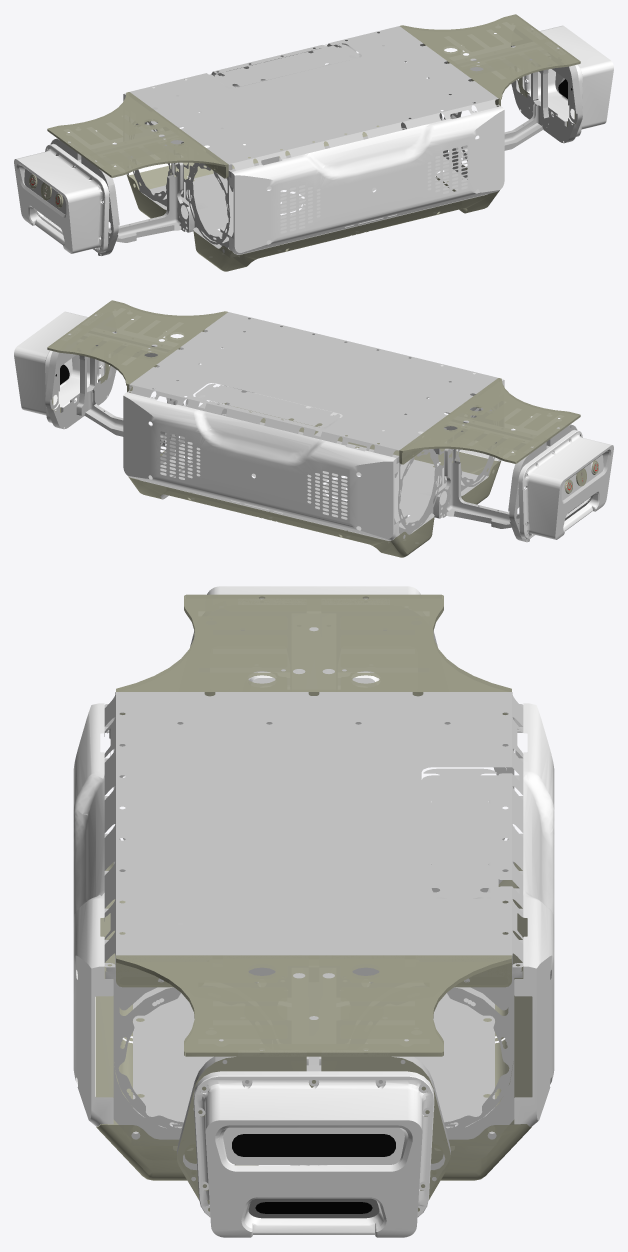
File: Torso.dae
3 views of the same model, one above another, from view 1: azimuth 30°, elevation 25°; view 2: azimuth 150°, elevation 25°; view 3: azimuth 270°, elevation 25° (orthographic). The views are drawn at different scales.
Parts seen in each view (by area): view 1: solid_Torso (×14); view 2: solid_Torso (×14); view 3: solid_Torso (×16).
Boxes of the visible parts, box(x1,y1,x2,y2) form: solid_Torso (×14): box(14, 14, 613, 271); solid_Torso (×14): box(14, 300, 613, 557); solid_Torso (×16): box(73, 586, 554, 1237).
Bounding box in the file's own units: 0.8513 × 0.324 × 0.171.
